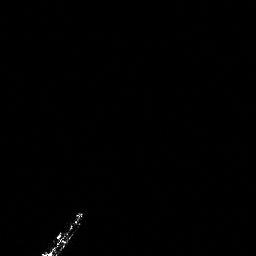ship: (37, 207, 87, 256)
